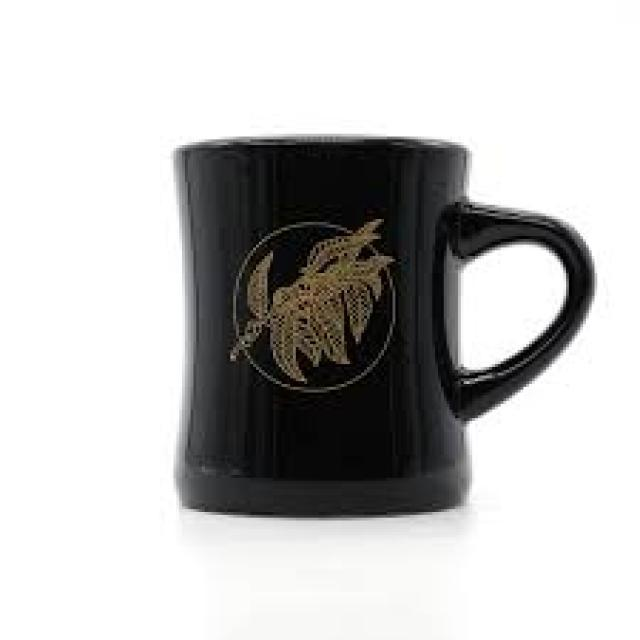taza: (168, 132, 598, 518)
